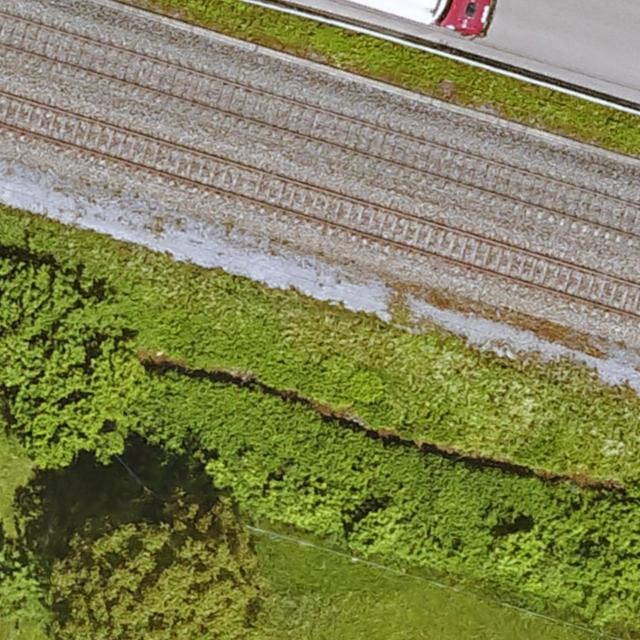tree: (53, 502, 269, 640), (0, 252, 132, 461)
